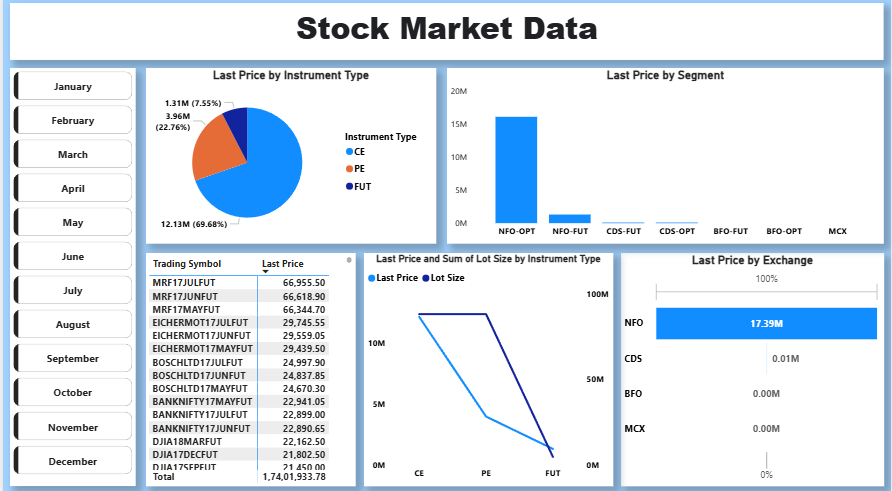

This screenshot's page, from the dashboard's own definition file:
{"tool":"powerbi","page":{"name":"Page 1","canvas":[1280,720],"ordinal":0},"visuals":[{"type":"textbox","box":[10.1,13.4,1258.2,82.3],"z":0},{"type":"advancedSlicerVisual","fields":{"Values":["stock market data.expiry.Variation.Date Hierarchy.Month"]},"box":[10.1,106.6,181.4,601.9],"z":1000},{"type":"funnel","title":"Last Price by Exchange","fields":{"Category":["stock market data.exchange"],"Y":["Sum(stock market data.last_price)"]},"box":[889.9,373,378.7,335.5],"z":2000},{"type":"pieChart","title":"Last Price by Instrument Type","fields":{"Category":["stock market data.instrument_type"],"Y":["Sum(stock market data.last_price)"]},"box":[205.9,106.6,417.6,253.4],"z":3000},{"type":"clusteredColumnChart","title":"Last Price by Segment","fields":{"Y":["Sum(stock market data.last_price)"],"Category":["stock market data.segment"]},"box":[639.4,106.6,629.3,253.4],"z":4000},{"type":"pivotTable","fields":{"Rows":["stock market data.tradingsymbol"],"Values":["Sum(stock market data.last_price)"]},"box":[205.9,373,302.4,335.5],"z":5000},{"type":"lineChart","title":"Last Price and Sum of Lot Size by Instrument Type","fields":{"Y":["Sum(stock market data.last_price)"],"Category":["stock market data.instrument_type"],"Y2":["Sum(stock market data.lot_size)"]},"box":[519.8,373,358.6,335.5],"z":6000}]}

Visuals, with their boxes in screenshot pixels (x1, y1, x2, y2), scaled from the page's 1280x720 canvas onto the 892x491 screenshot:
textbox: 7:9:884:65
advancedSlicerVisual - stock market data.expiry.Variation.Date Hierarchy.Month: 7:73:133:483
"Last Price by Exchange" funnel: 620:254:884:483
"Last Price by Instrument Type" pieChart: 143:73:435:246
"Last Price by Segment" clusteredColumnChart: 446:73:884:246
pivotTable - stock market data.tradingsymbol x Sum(stock market data.last_price): 143:254:354:483
"Last Price and Sum of Lot Size by Instrument Type" lineChart: 362:254:612:483
